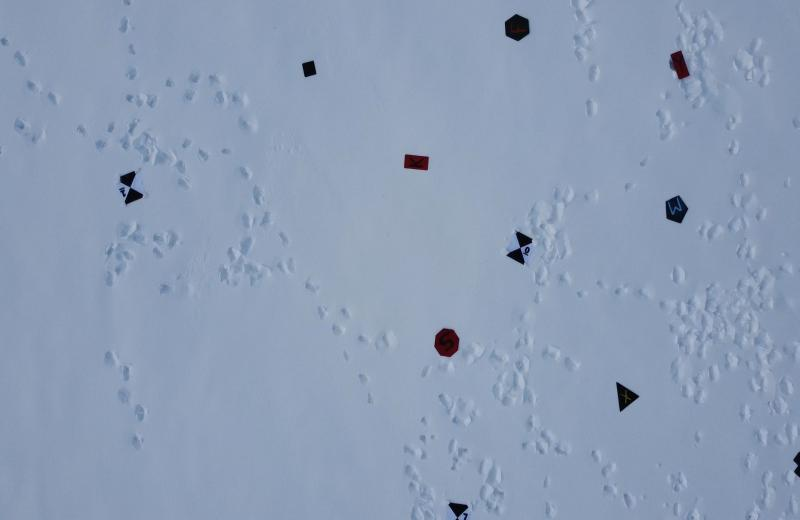Cross: (789, 451, 800, 479)
Hexagon: (500, 15, 533, 44)
Octagon: (433, 325, 462, 358)
Pentagon: (663, 192, 692, 226)
Rectangle: (400, 146, 434, 177), (668, 49, 692, 81)
Square: (300, 60, 320, 80)
Triangle: (611, 378, 642, 415)
